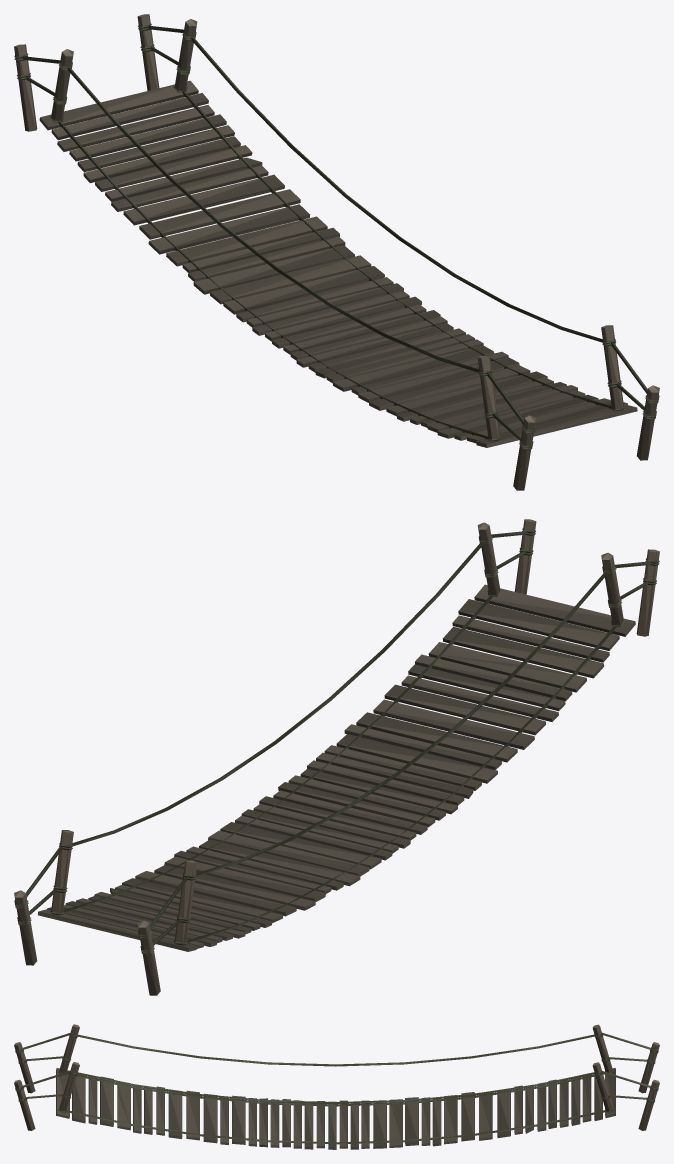
File: Cave_8_Bridge.fbx
The picture shows the model from 3 angles, top to bottom: view 1: azimuth 30°, elevation 25°; view 2: azimuth 150°, elevation 25°; view 3: azimuth 270°, elevation 25°; orthographic projection. The views are drawn at different scales.
Parts seen in each view (by area): view 1: polySurface554; view 2: polySurface554; view 3: polySurface554.
Part boxes in pixels (<box>): polySurface554: <box>14,14,659,490</box>; polySurface554: <box>14,519,659,995</box>; polySurface554: <box>14,1024,659,1149</box>.
Bounding box in the file's own units: 4.19 × 3.33 × 23.77.
